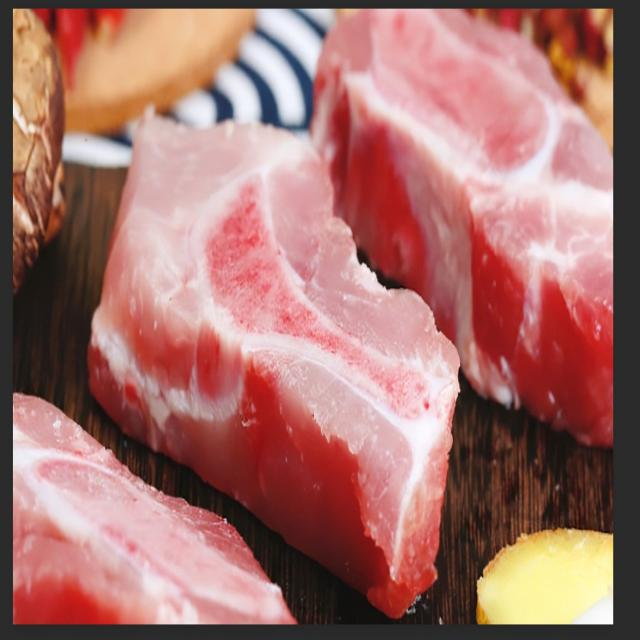pork: (88, 121, 463, 614), (310, 8, 612, 445), (14, 397, 299, 622)
